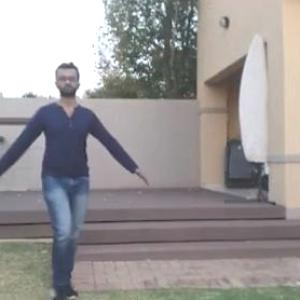land: (0, 72, 141, 296)
